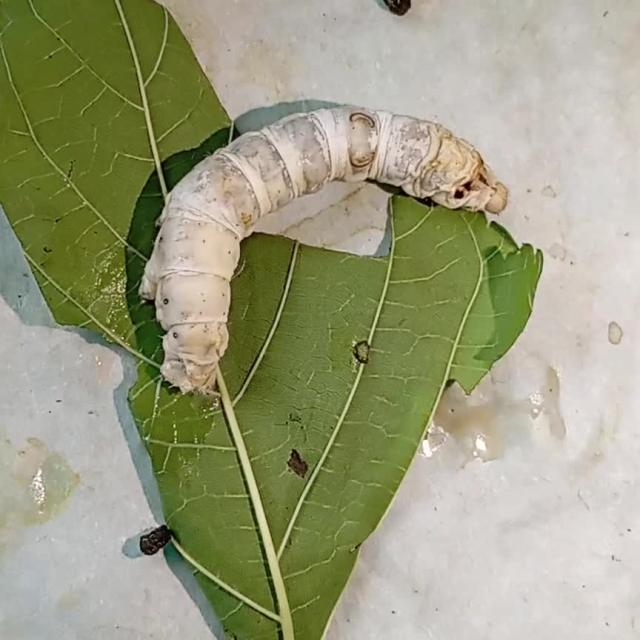Grasserie: (132, 69, 524, 426)
